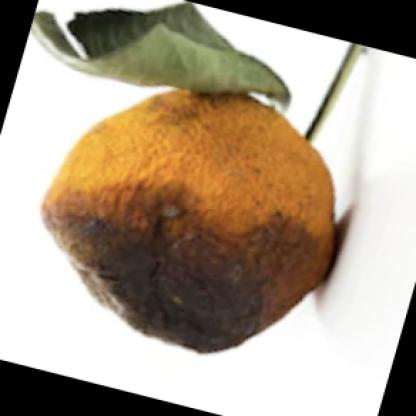rotten: (45, 75, 339, 356)
